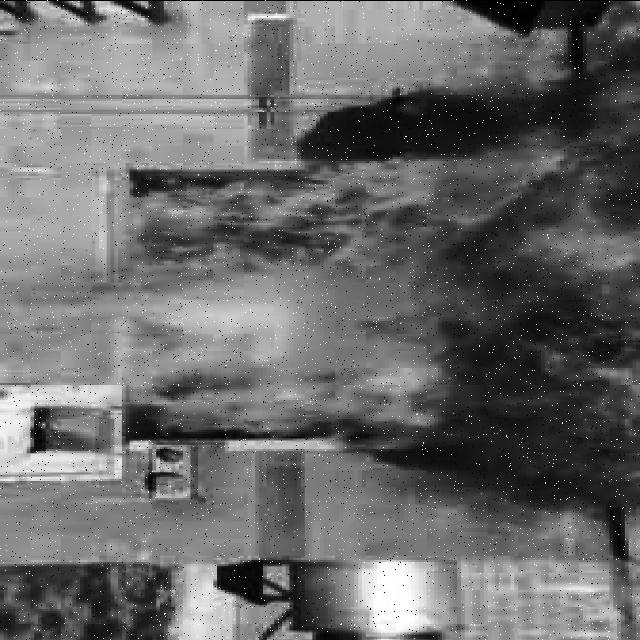api: (112, 146, 638, 511)
